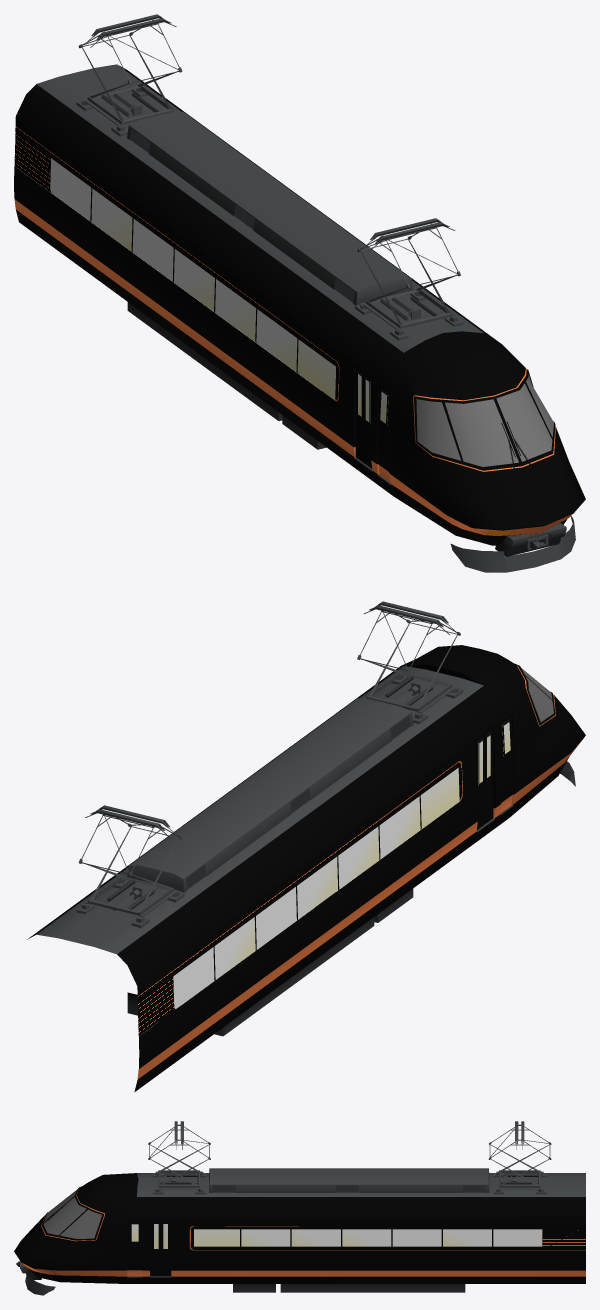
The model's file is CHAR_SEL_21000.glb.
3 renders of one model, top to bottom at view 1: azimuth 30°, elevation 25°; view 2: azimuth 150°, elevation 25°; view 3: azimuth 270°, elevation 25°, orthographic. The views are drawn at different scales.
Parts seen in each view (by area): view 1: FRAME_ROOT; view 2: FRAME_ROOT; view 3: FRAME_ROOT.
Boxes of the visible parts, bbox=[...] form: FRAME_ROOT: bbox=[14, 14, 585, 572]; FRAME_ROOT: bbox=[27, 601, 585, 1092]; FRAME_ROOT: bbox=[14, 1121, 585, 1295].
Bounding box in the file's own units: 6.49 × 12.22 × 42.
11 materials, 10 textured.
